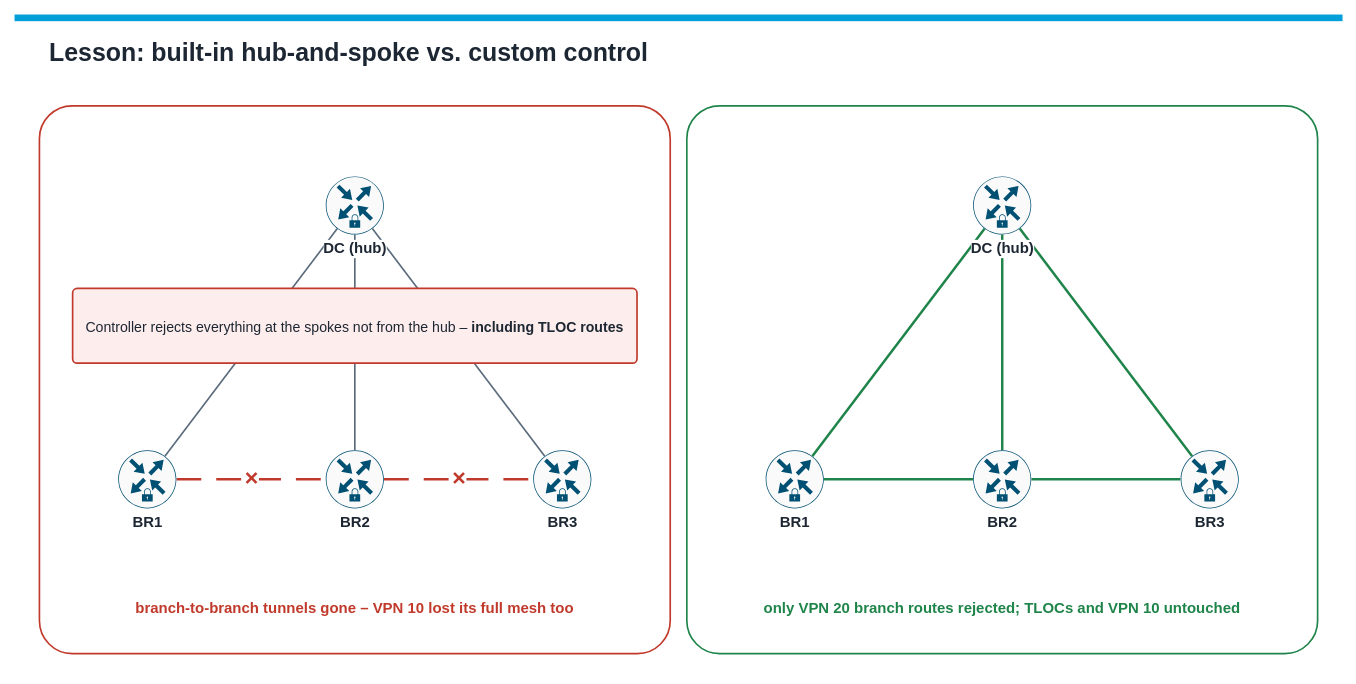
Some shapes in this 1356 by 684 pixel diagram are drawn without their labels. Each missing label, with the box of its shape:
Built-in hub and spoke (VPN 20): (38, 105, 671, 654)
Custom control policy, default accept: (686, 105, 1318, 654)
